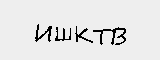В: (109, 24, 129, 49)
И: (33, 22, 54, 44)
К: (74, 27, 94, 46)
Т: (90, 27, 114, 46)
Ш: (54, 24, 73, 44)
